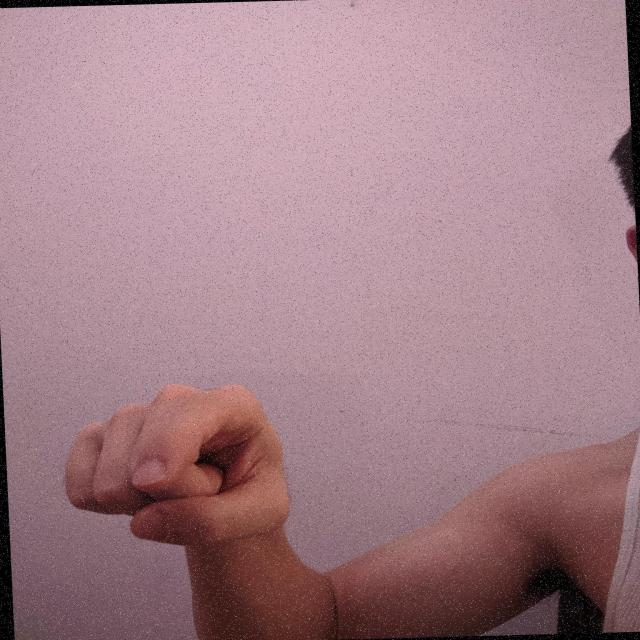Z: (50, 375, 303, 557)
